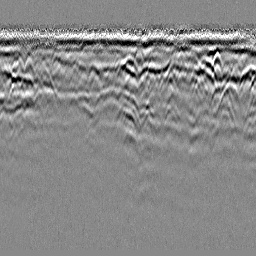cavity: (114, 51, 141, 78)
